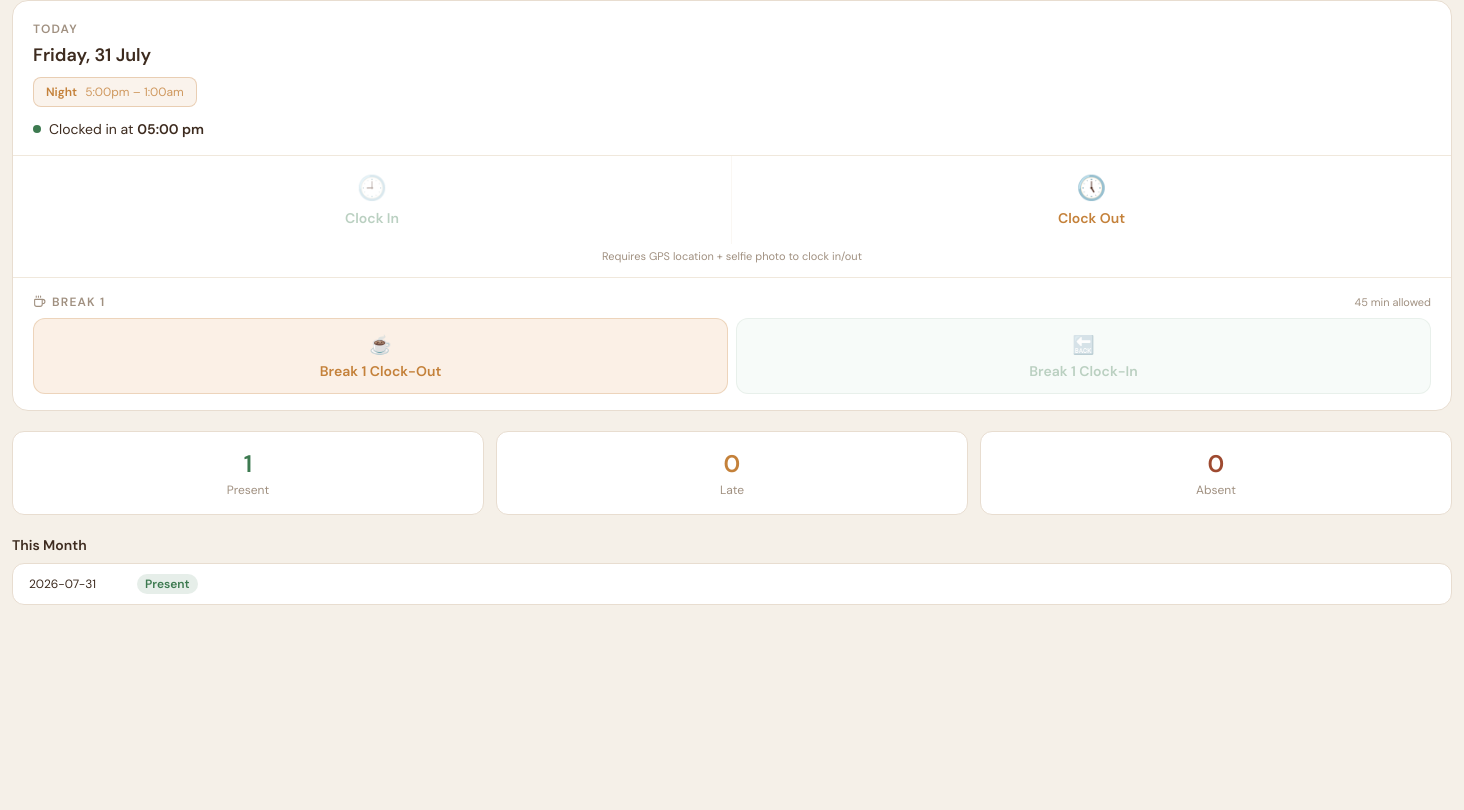
Test: a write that does not land is reported, not swallowed › shows an error when the break write returns no row
The image size is (1464, 810).
Click the button "☕ Break 1 Clock-Out". click: (380, 356)
box: [33, 318, 728, 394]
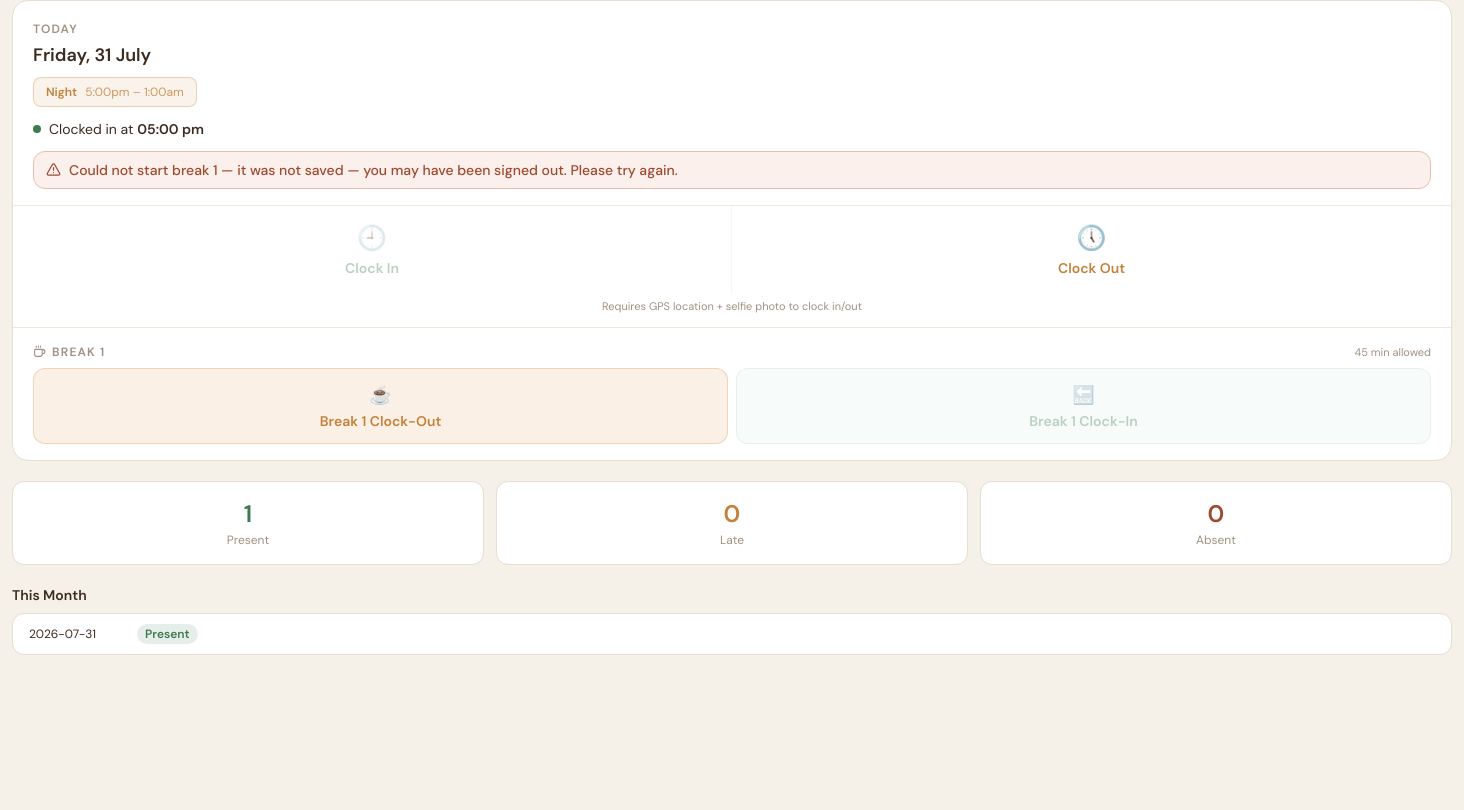
Check: the message shows "Could not start break 1", box [69, 161, 678, 179]
Check: the message shows "not saved", box [69, 161, 678, 179]
